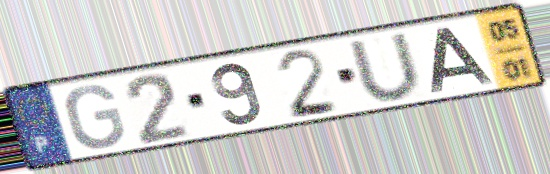2: (123, 71, 195, 147), (274, 46, 340, 121)
9: (210, 61, 263, 126)
A: (428, 26, 498, 95)
G: (62, 83, 129, 151)
U: (344, 29, 428, 103)
